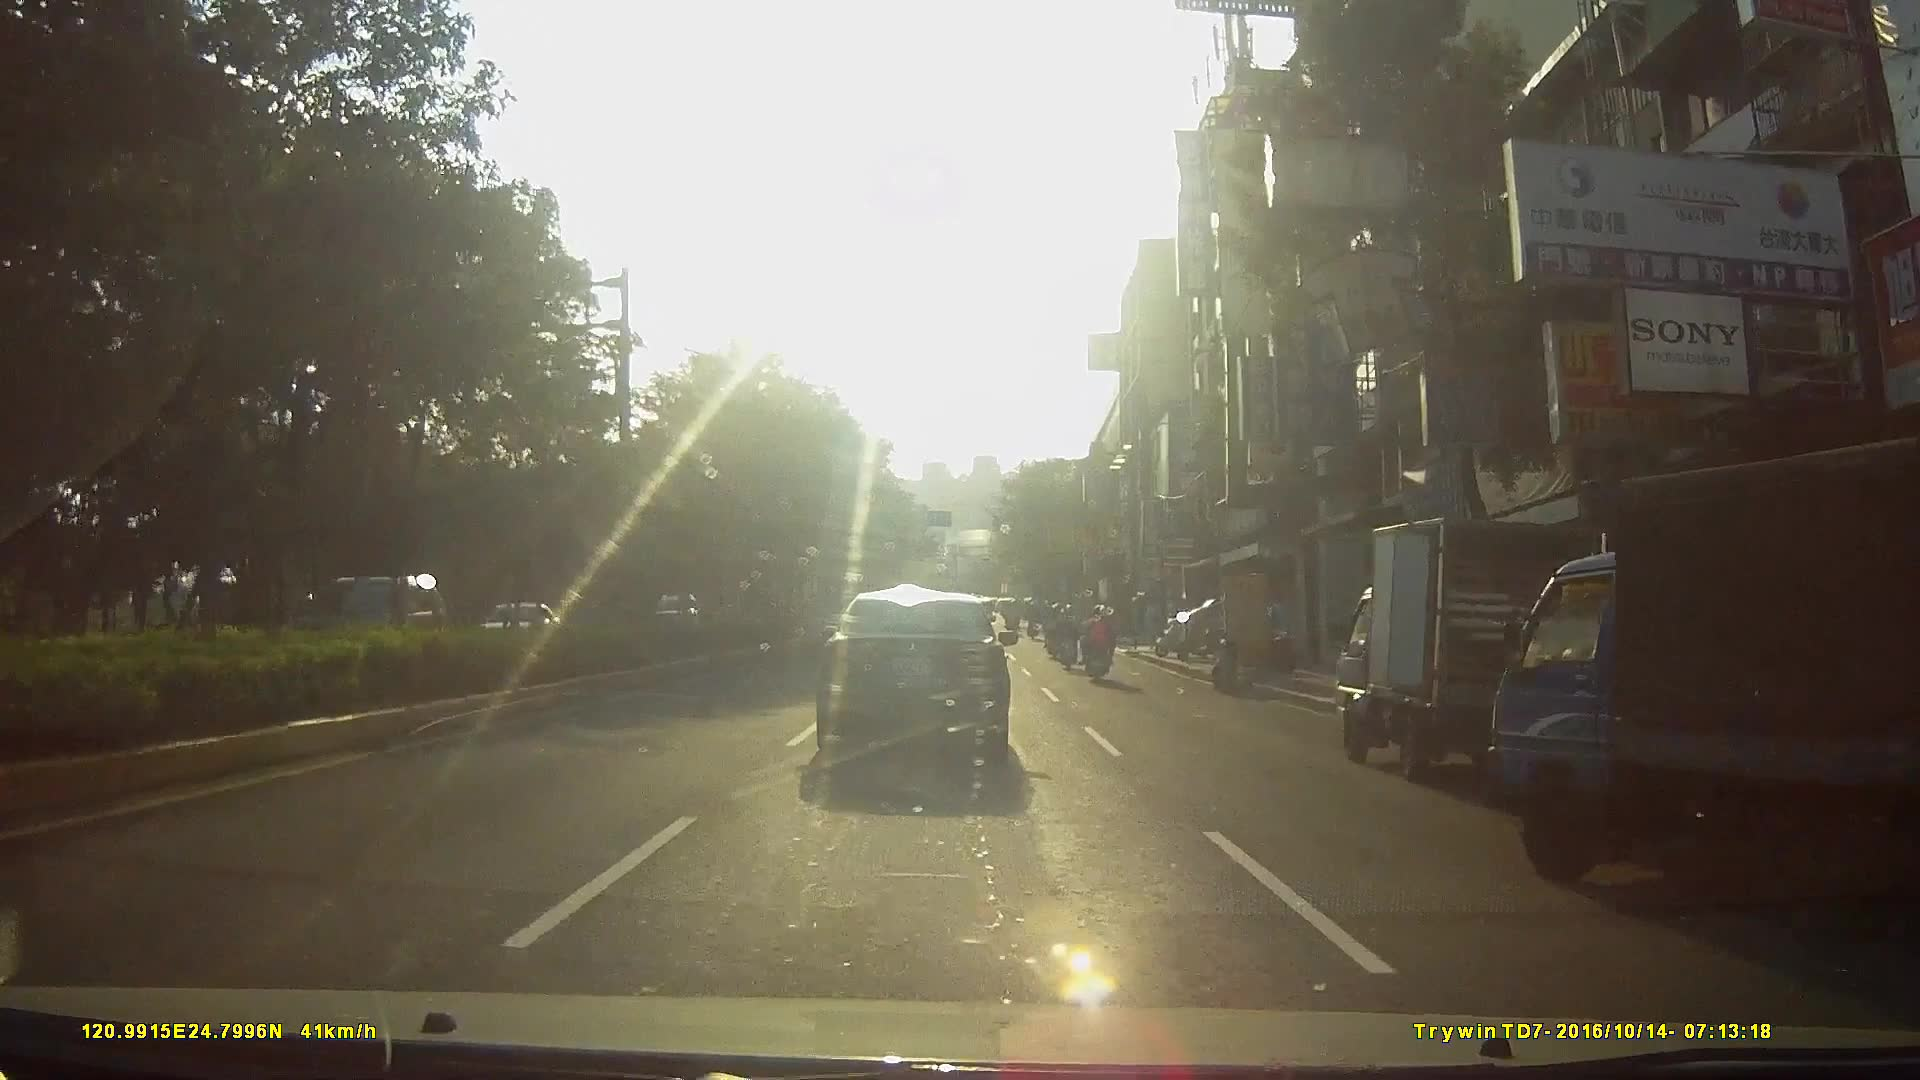rider: (1079, 603, 1119, 683), (1055, 603, 1083, 673), (1045, 606, 1065, 663)
vehicle: (1497, 443, 1920, 939), (1330, 506, 1632, 784), (811, 591, 1026, 786)
